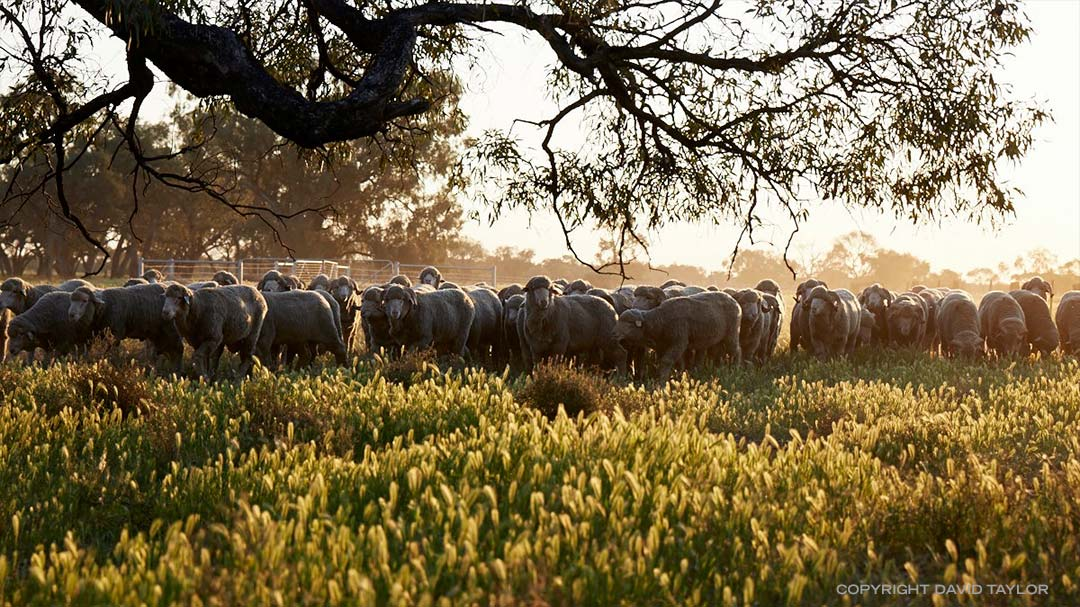sheep: (613, 288, 745, 373), (240, 285, 349, 382), (516, 273, 616, 374), (161, 277, 266, 373), (66, 279, 186, 352), (381, 281, 473, 360), (2, 290, 97, 352), (795, 282, 864, 365), (978, 293, 1033, 362), (1013, 285, 1061, 356), (938, 292, 984, 360), (882, 295, 932, 352), (859, 279, 895, 351)
